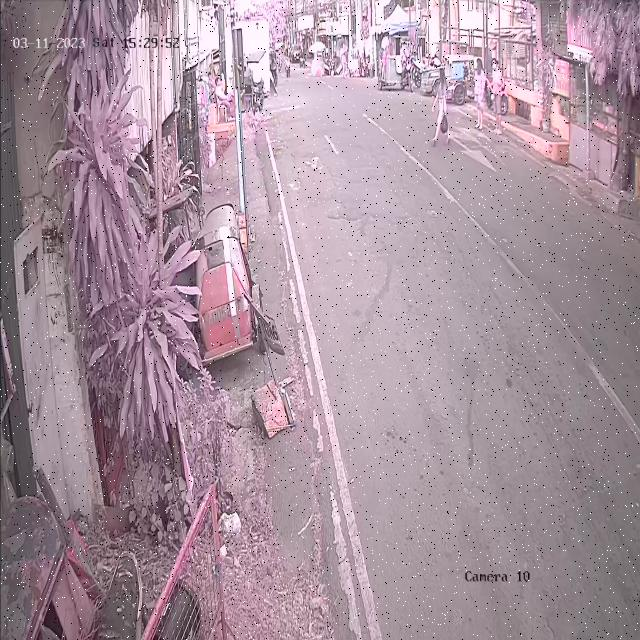garbage_dumping: (438, 105, 451, 135)
